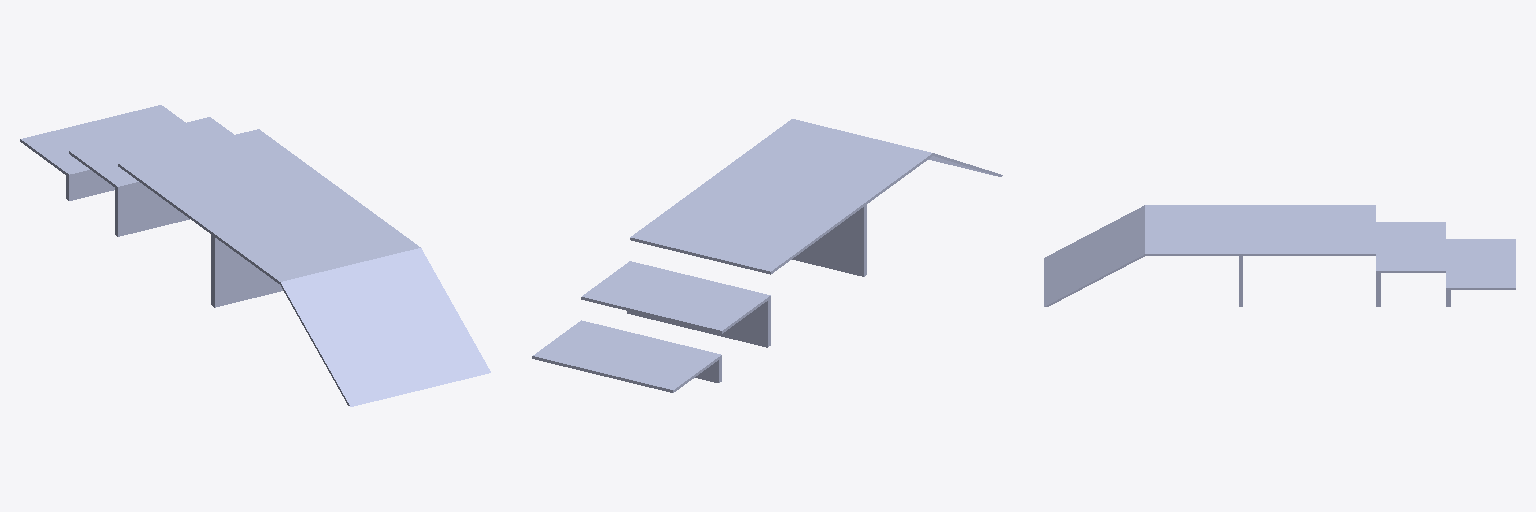
URDF robot description (map1):
<?xml version="1.0" encoding="utf-8"?>
<!-- This URDF was automatically created by SolidWorks to URDF Exporter! Originally created by [author] ([email redacted]) 
     Commit Version: 1.6.0-1-g15f4949  Build Version: 1.6.7594.29634
     For more information, please see http://wiki.ros.org/sw_urdf_exporter -->
<robot
  name="map1">
  <link
    name="map">
    <inertial>
      <origin
        xyz="-2.22044604925031E-16 0.143810334264144 -0.0954115964883124"
        rpy="0 1.54 1.54" />
      <mass
        value="14.9082622392718" />
      <inertia
        ixx="1.34334930705162"
        ixy="3.01516650174761E-16"
        ixz="3.04802940094173E-16"
        iyy="0.379650663684847"
        iyz="-0.14032708545681"
        izz="1.58487623666976" />
    </inertial>
    <visual>
      <origin
        xyz="0 0 0"
        rpy="0 0 0" />
      <geometry>
        <mesh
          filename="package://map1/meshes/map.STL" />
      </geometry>
      <material
        name="">
        <color
          rgba="0.792156862745098 0.819607843137255 0.933333333333333 1" />
      </material>
    </visual>
    <collision>
      <origin
        xyz="0 0 0"
        rpy="0 0 0" />
      <geometry>
        <mesh
          filename="package://map1/meshes/map.STL" />
      </geometry>
    </collision>
  </link>
</robot>

--- Facts derived from the render (not from the file) ---
3 views of the same robot in one strip: view 1: azimuth 30°, elevation 25°; view 2: azimuth 150°, elevation 25°; view 3: azimuth 270°, elevation 25° (orthographic).
Robot: map1 — 1 links, 0 joints (none); root link map; default pose: every joint at zero.
Links seen in each view (by area): view 1: map; view 2: map; view 3: map.
Link boxes in pixels (x1,y1,x2,y2): map: (20,105,490,406); map: (532,119,1002,392); map: (1044,205,1515,306).
Size in the robot's own frame: 0.5 by 2.03 by 0.25 metres.
Meshes: 1 distinct files referenced, 1 mesh visuals loaded (1 binary STL).